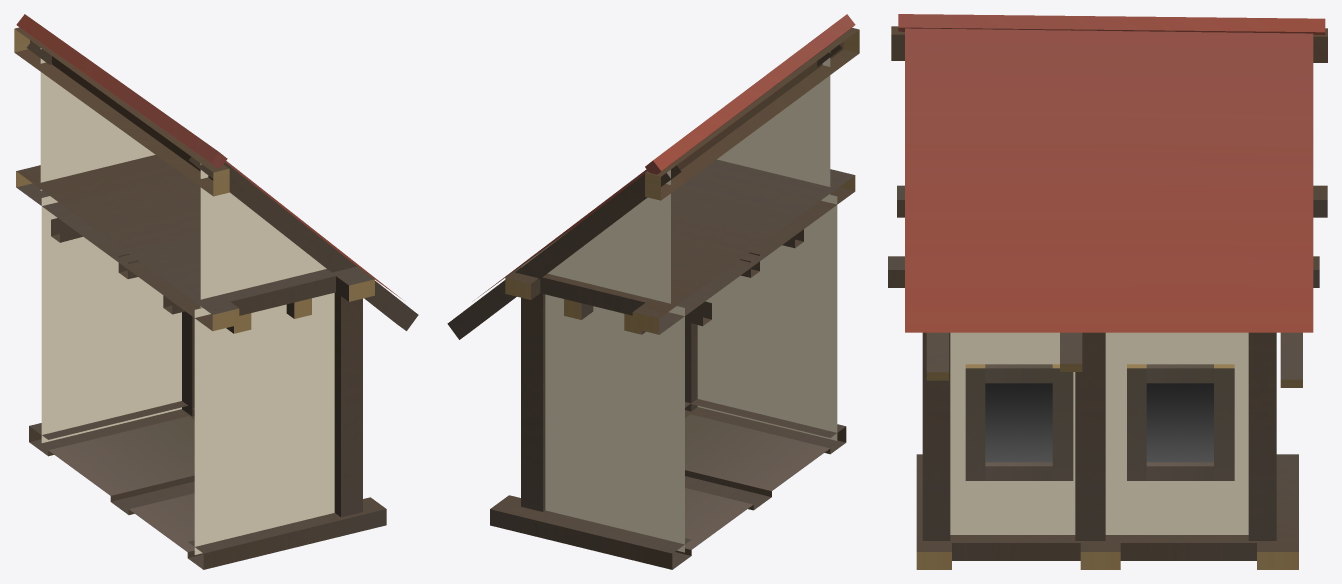
File: House_Piece_2B_LOD1.fbx
The picture shows the model from 3 angles, left to right: view 1: azimuth 30°, elevation 25°; view 2: azimuth 150°, elevation 25°; view 3: azimuth 270°, elevation 25°; orthographic projection. The views are drawn at different scales.
Visible parts, largest first — view 1: polySurface9631; view 2: polySurface9631; view 3: polySurface9631.
Boxes of the visible parts, left/top/right/bottom form: polySurface9631: left=14, top=14, right=418, bottom=569; polySurface9631: left=447, top=14, right=859, bottom=569; polySurface9631: left=888, top=14, right=1327, bottom=569.
Size of the model in its own units: 219 by 387 by 334.
